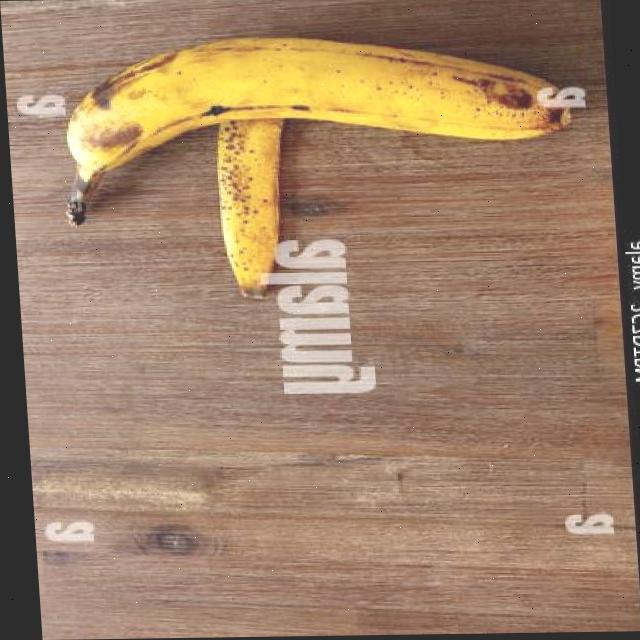banana: (46, 25, 587, 226), (202, 49, 308, 305)
